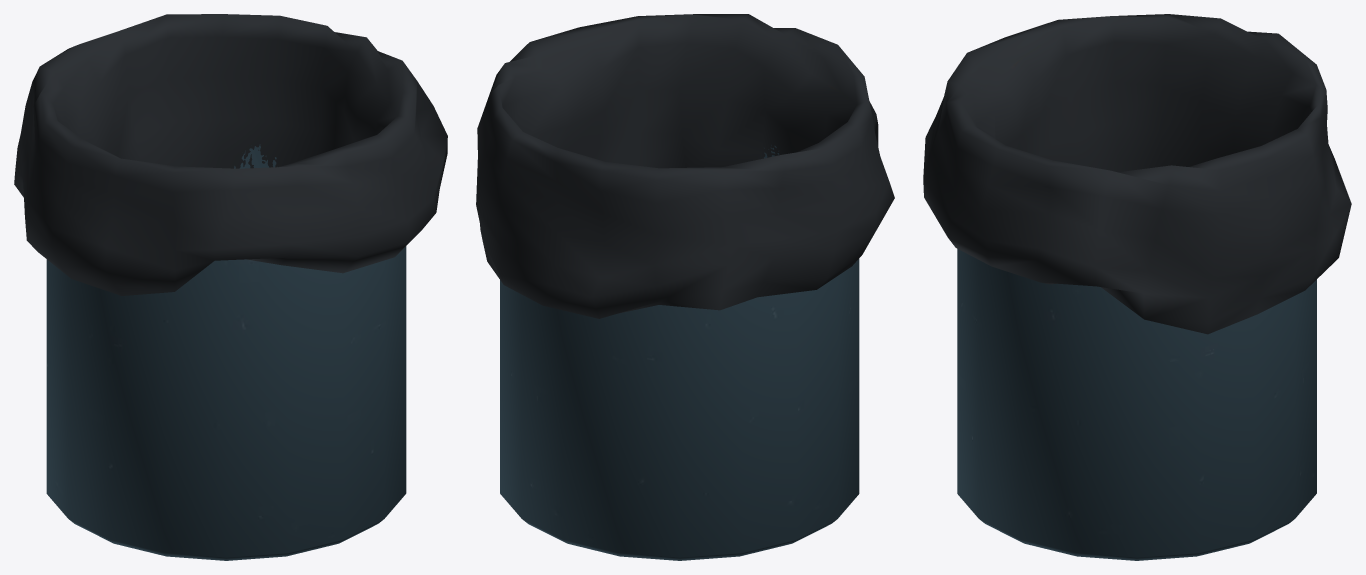
File: trash_can-opt.glb
3 renders of one model, left to right at view 1: azimuth 30°, elevation 25°; view 2: azimuth 150°, elevation 25°; view 3: azimuth 270°, elevation 25°, orthographic.
Parts seen in each view (by area): view 1: Cylinder181__0; view 2: Cylinder181__0; view 3: Cylinder181__0.
Part boxes in pixels (x1,y1,x2,y2): Cylinder181__0: (14, 14, 447, 560); Cylinder181__0: (476, 14, 894, 560); Cylinder181__0: (923, 14, 1351, 560).
Size of the model in its own units: 305 by 301 by 293.
Materials: 1 (1 with a texture image).
